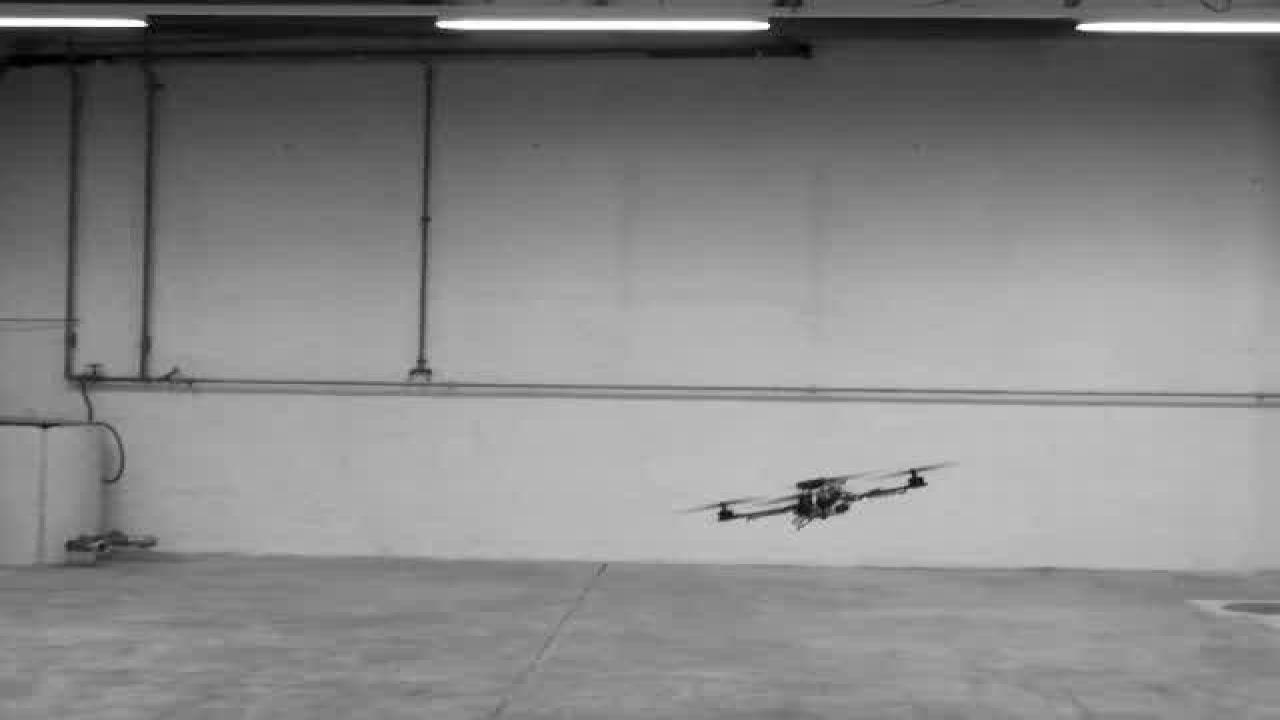Drone: (666, 455, 968, 539)
